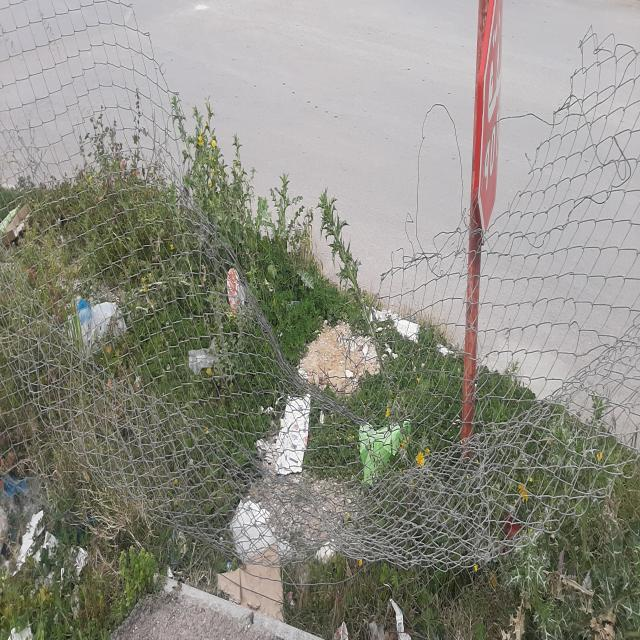fence line: (195, 80, 513, 346)
